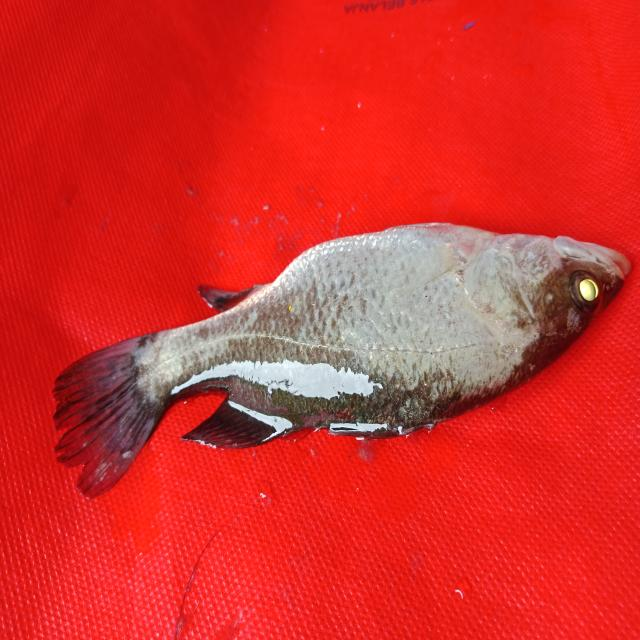ikan: (44, 179, 634, 513)
